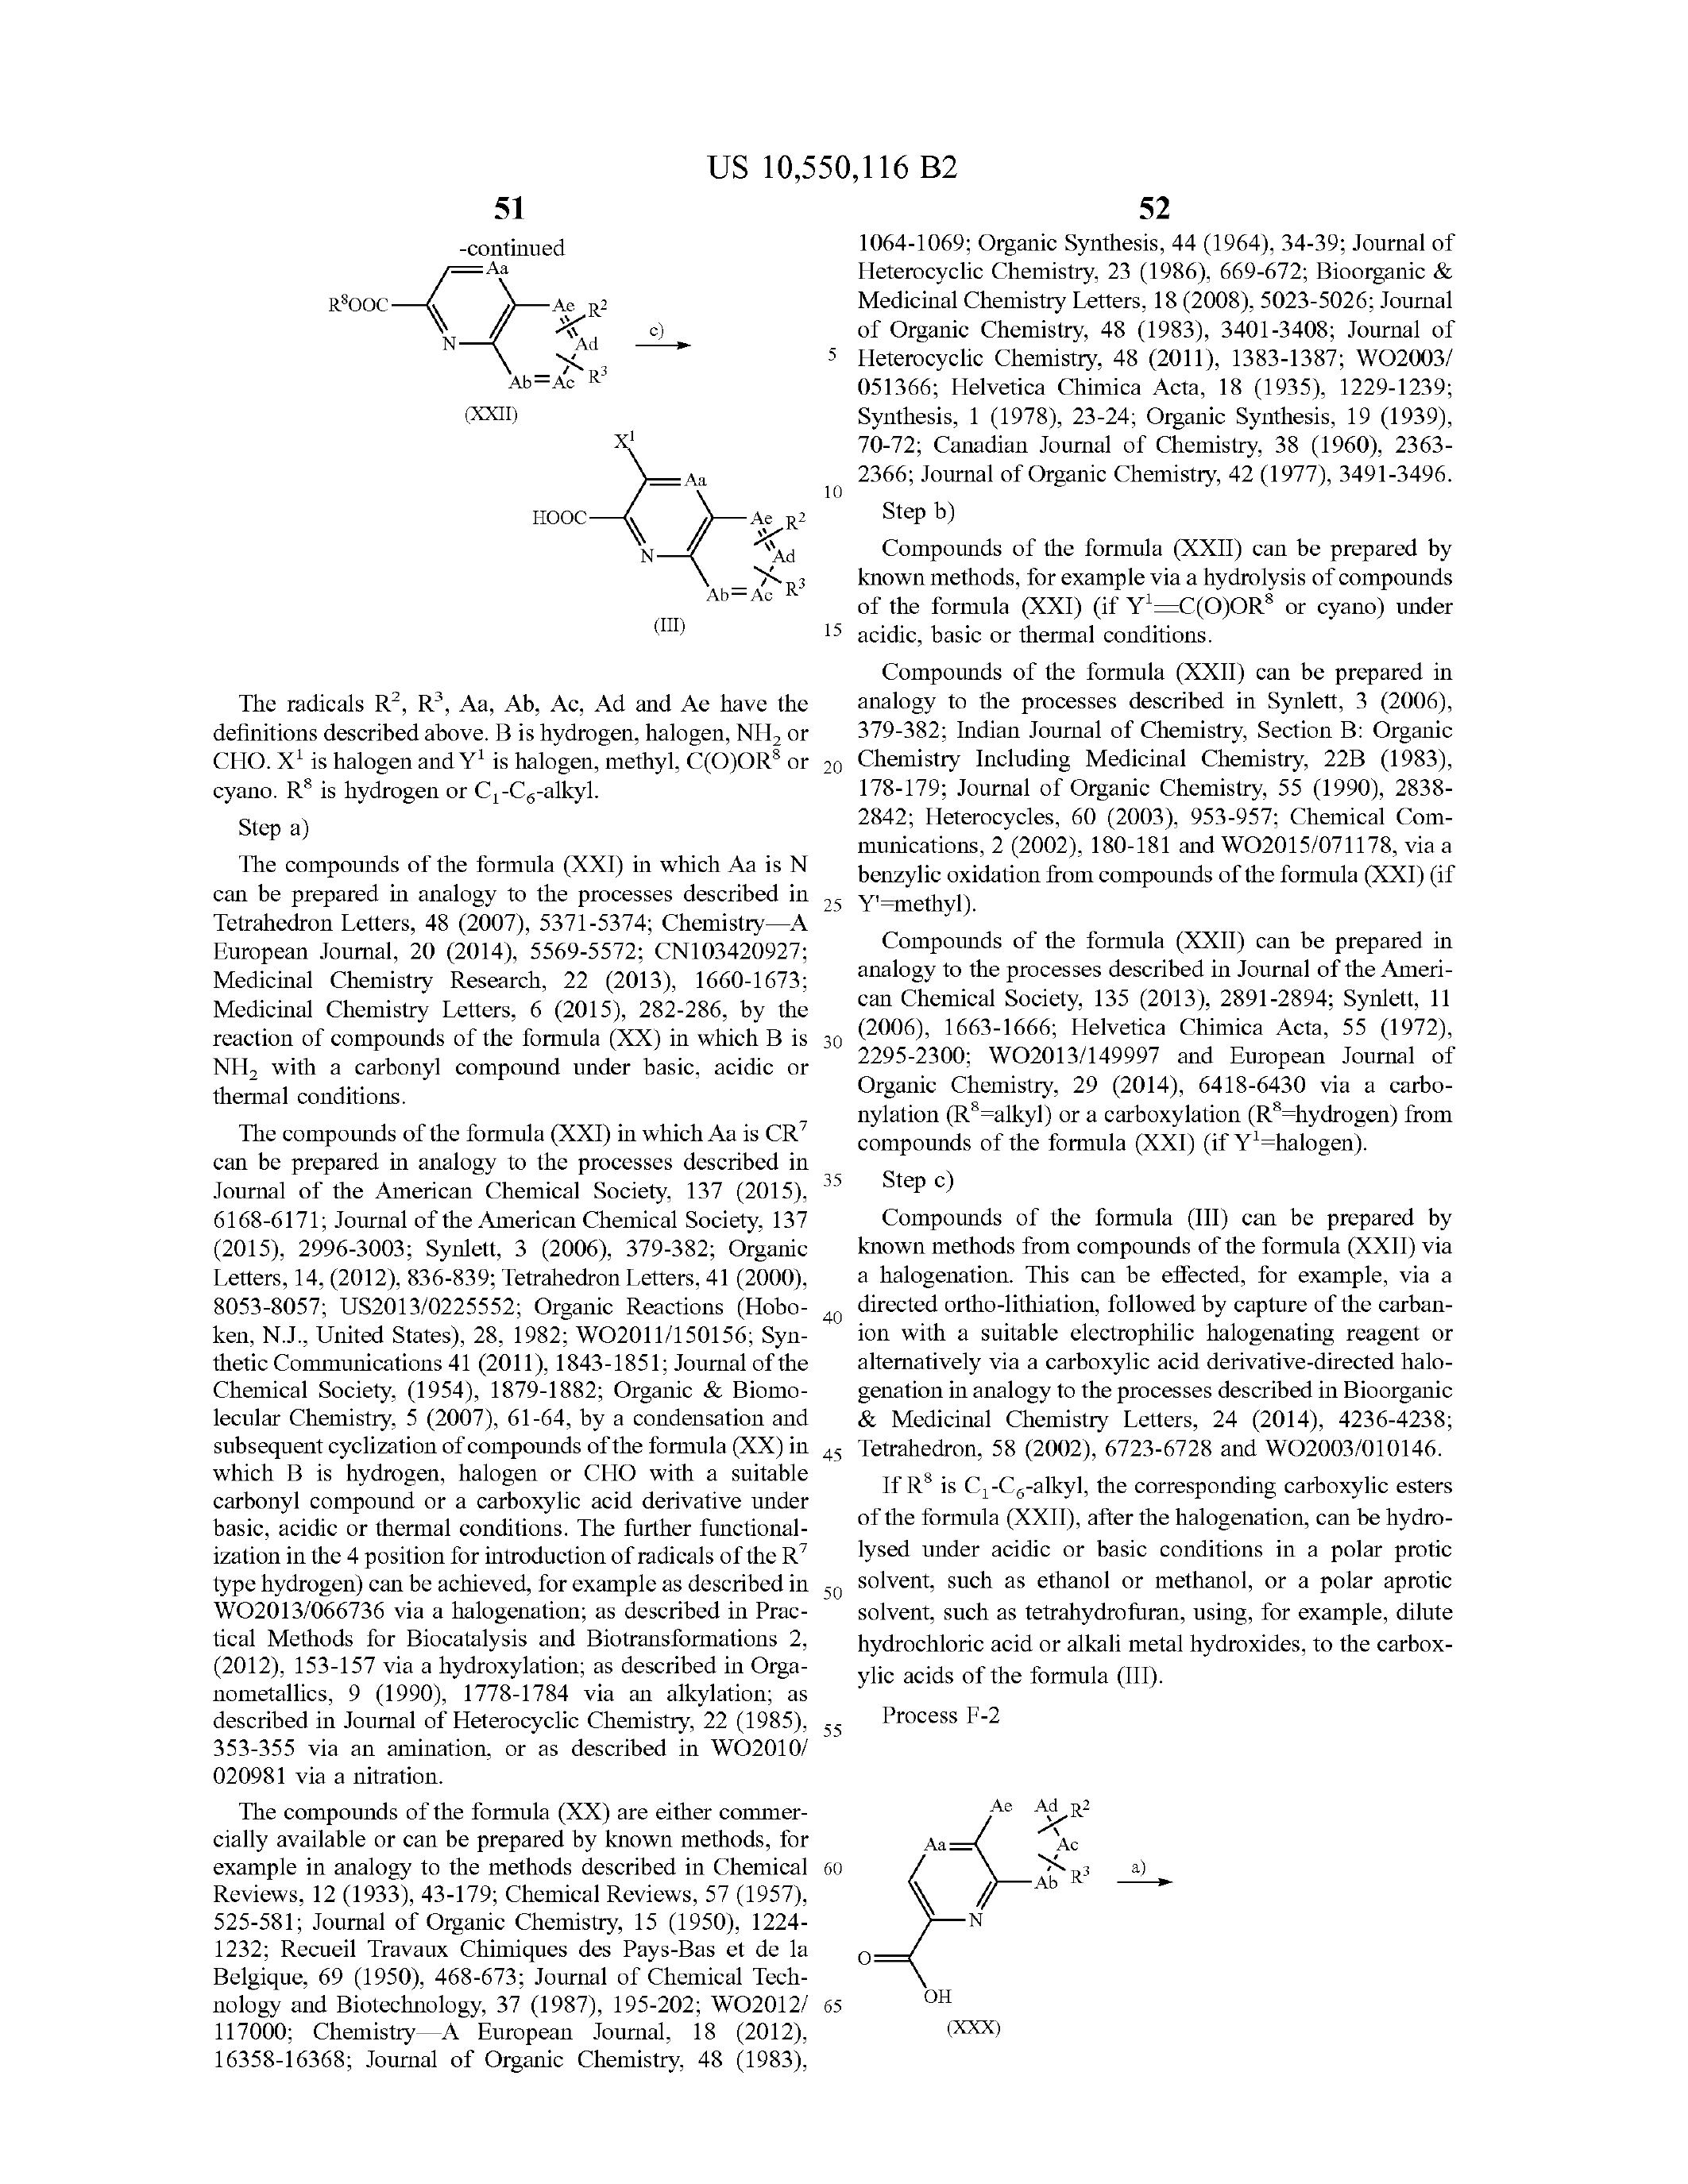reactions: (227, 122, 826, 629)
